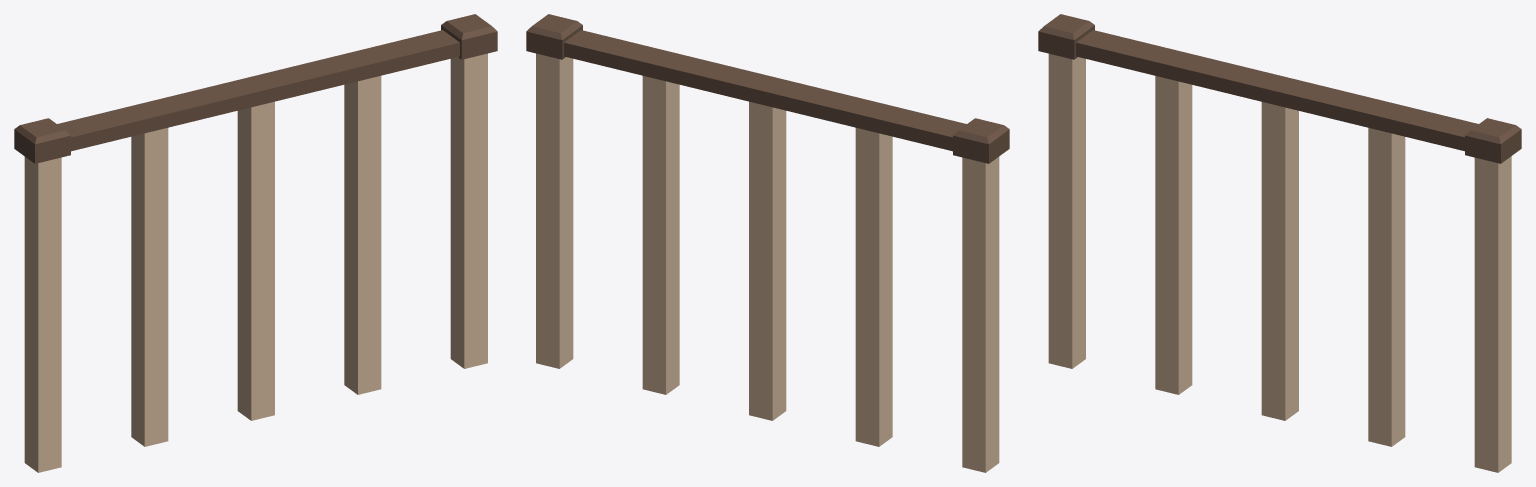
The model's file is StairsPart1_C4.fbx.
3 renders of one model, left to right at view 1: azimuth 30°, elevation 25°; view 2: azimuth 150°, elevation 25°; view 3: azimuth 330°, elevation 25°, orthographic.
Visible parts, largest first — view 1: StairsPart1_C4; view 2: StairsPart1_C4; view 3: StairsPart1_C4.
Boxes of the visible parts, x1,y1,x2,y2 form: StairsPart1_C4: (14, 14, 497, 472); StairsPart1_C4: (526, 14, 1009, 472); StairsPart1_C4: (1038, 14, 1521, 472).
Bounding box in the file's own units: 142 × 98.99 × 11.02.
